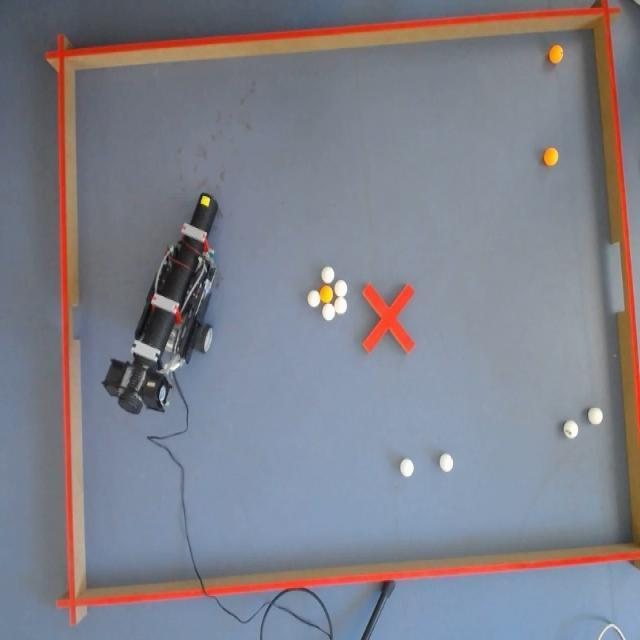orange: (548, 43, 564, 65), (542, 147, 558, 166), (320, 285, 334, 304)
robot: (101, 202, 216, 408)
white: (400, 458, 414, 478), (440, 452, 454, 472), (588, 406, 602, 426), (307, 289, 320, 309), (322, 302, 335, 320), (566, 419, 578, 437), (336, 280, 348, 298), (324, 264, 334, 284), (336, 296, 347, 314)
